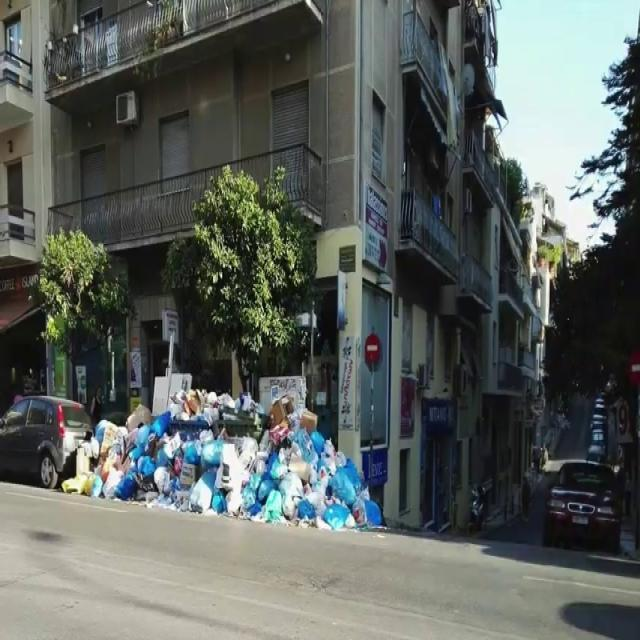garbage: (65, 397, 384, 536)
